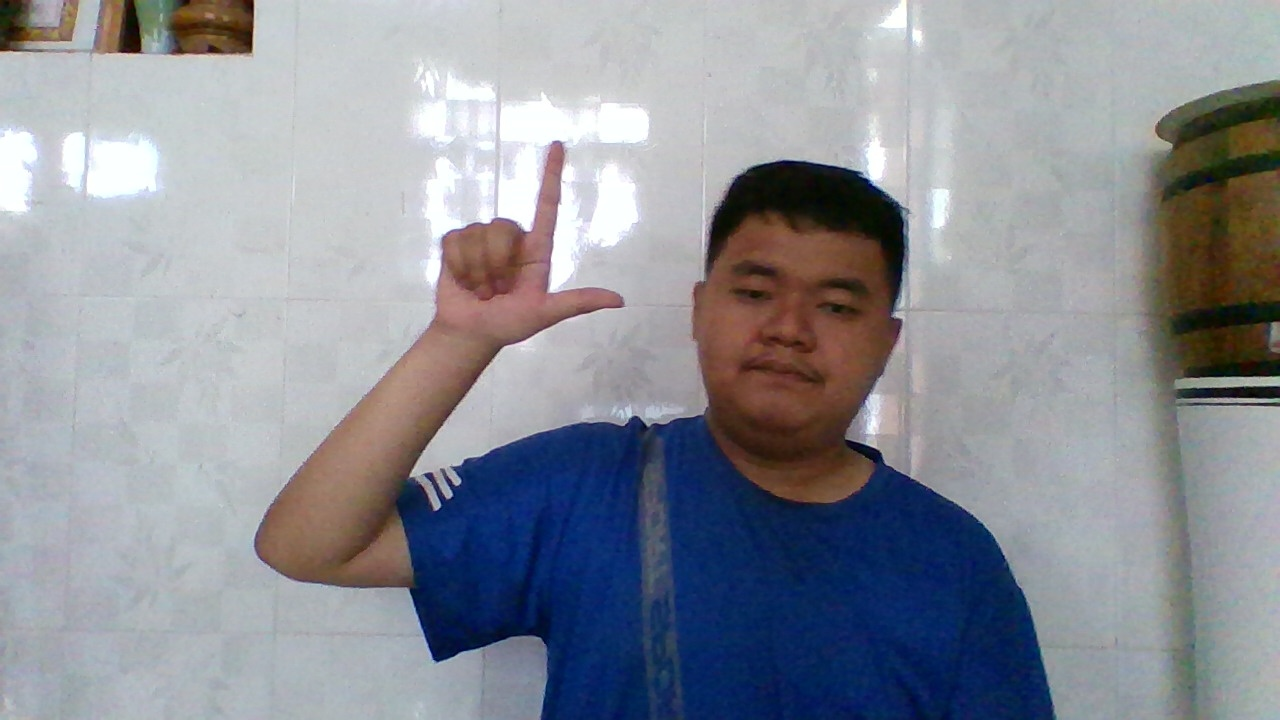L: (436, 131, 632, 349)
